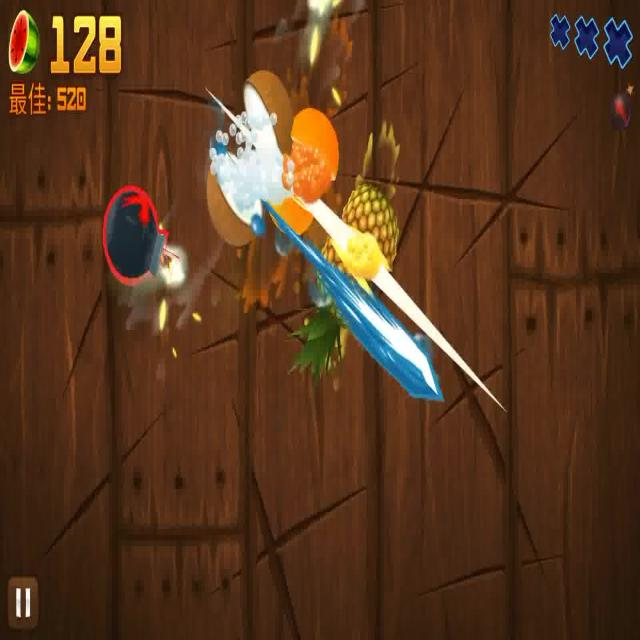bomb: (100, 184, 183, 305)
fruit: (300, 232, 362, 374), (343, 177, 401, 272), (204, 158, 263, 250), (243, 72, 293, 163), (290, 106, 342, 180)
